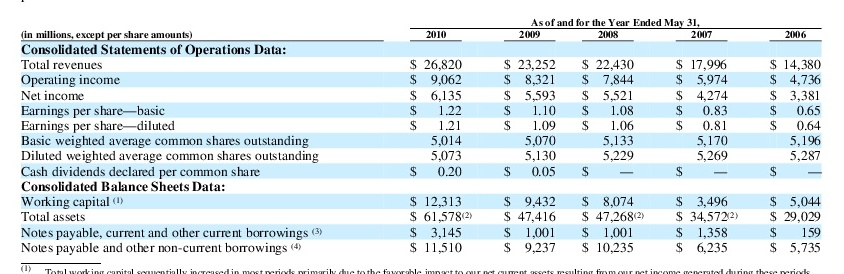table: (0, 0, 844, 274)
